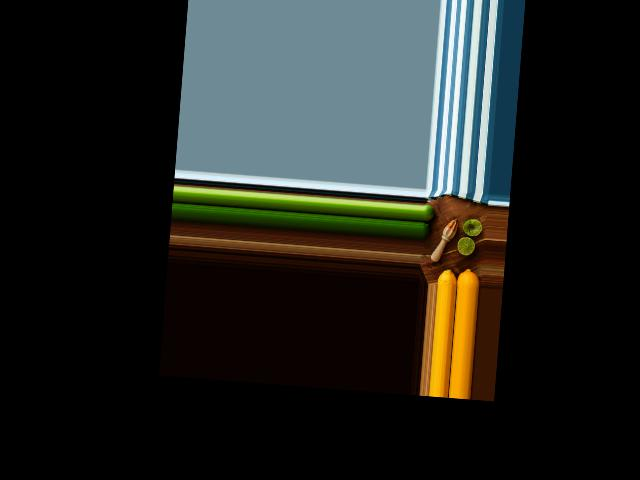lemon: (454, 264, 482, 287)
